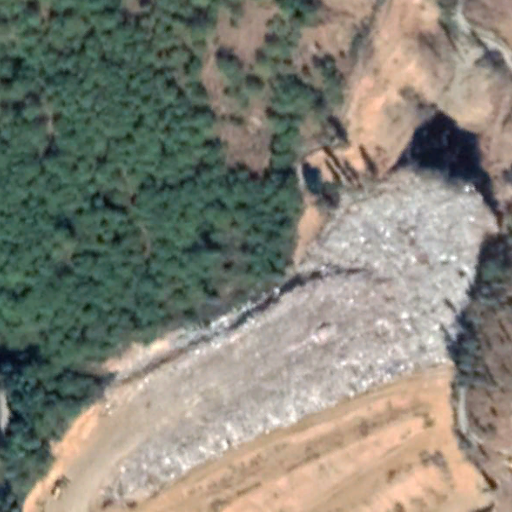msw: (100, 164, 487, 498)
